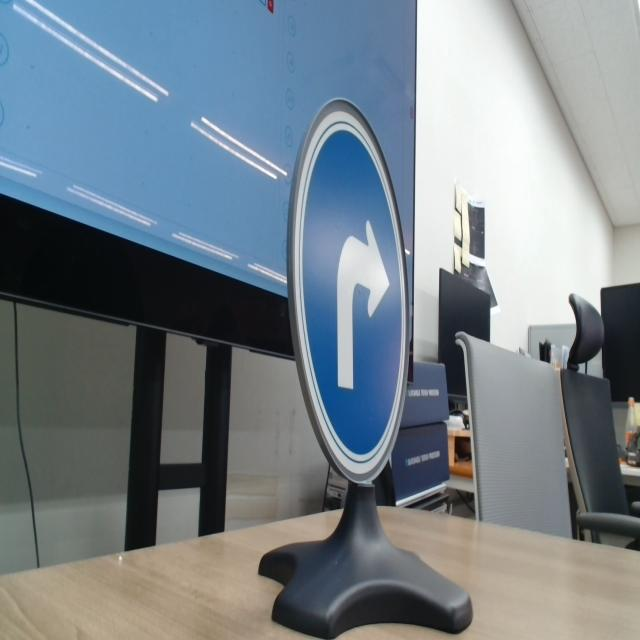right_dierection: (266, 56, 451, 536)
